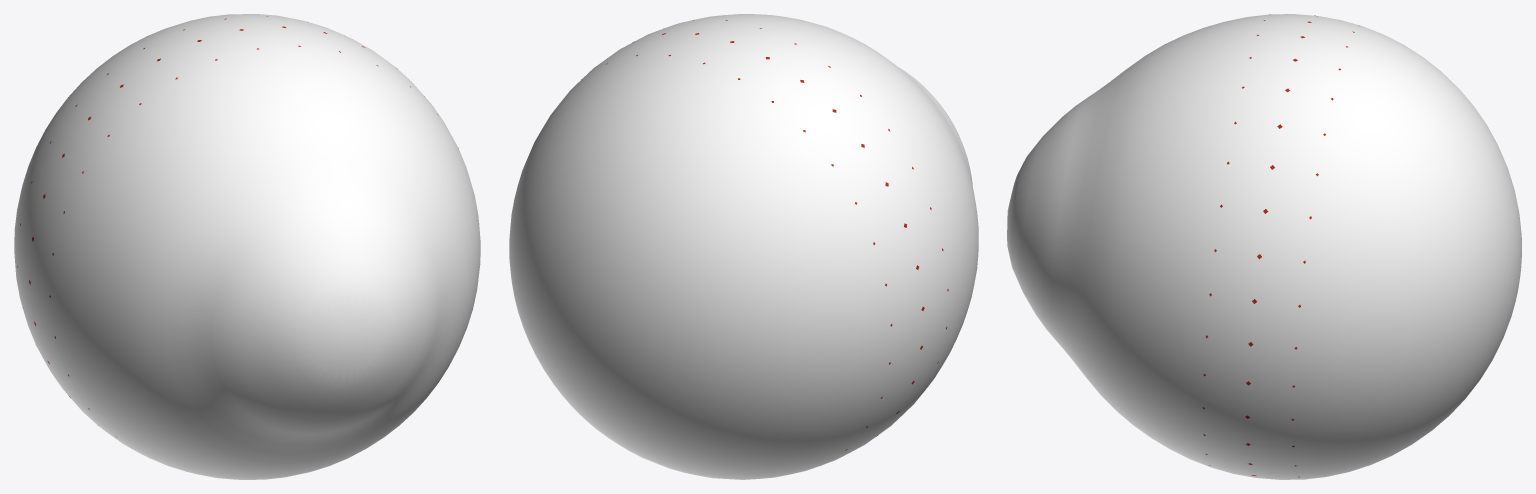
3 renders of one model, left to right at view 1: azimuth 30°, elevation 25°; view 2: azimuth 150°, elevation 25°; view 3: azimuth 270°, elevation 25°, orthographic.
Visible parts, largest first — view 1: Cornea_3.001; view 2: Cornea_3.001; view 3: Cornea_3.001.
Part boxes in pixels (x1,y1,x2,y2): Cornea_3.001: (14, 14, 480, 479); Cornea_3.001: (509, 14, 978, 479); Cornea_3.001: (1007, 14, 1521, 479).
Size of the model in its own units: 476 by 476 by 526.
